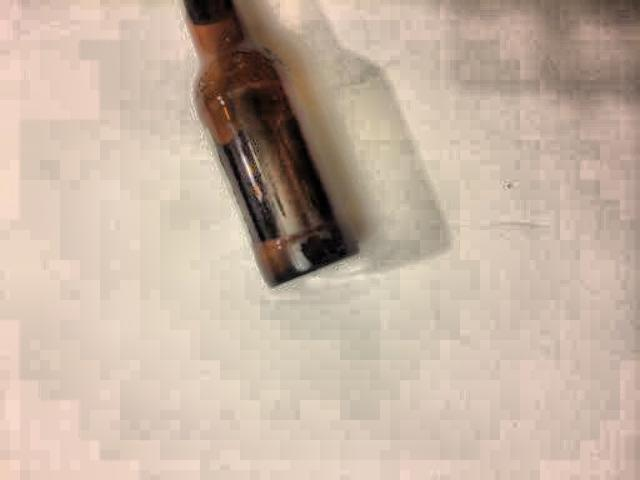Bottles: (155, 0, 380, 306)
